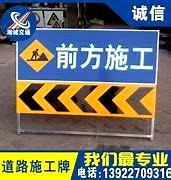sign: (15, 26, 156, 118)
